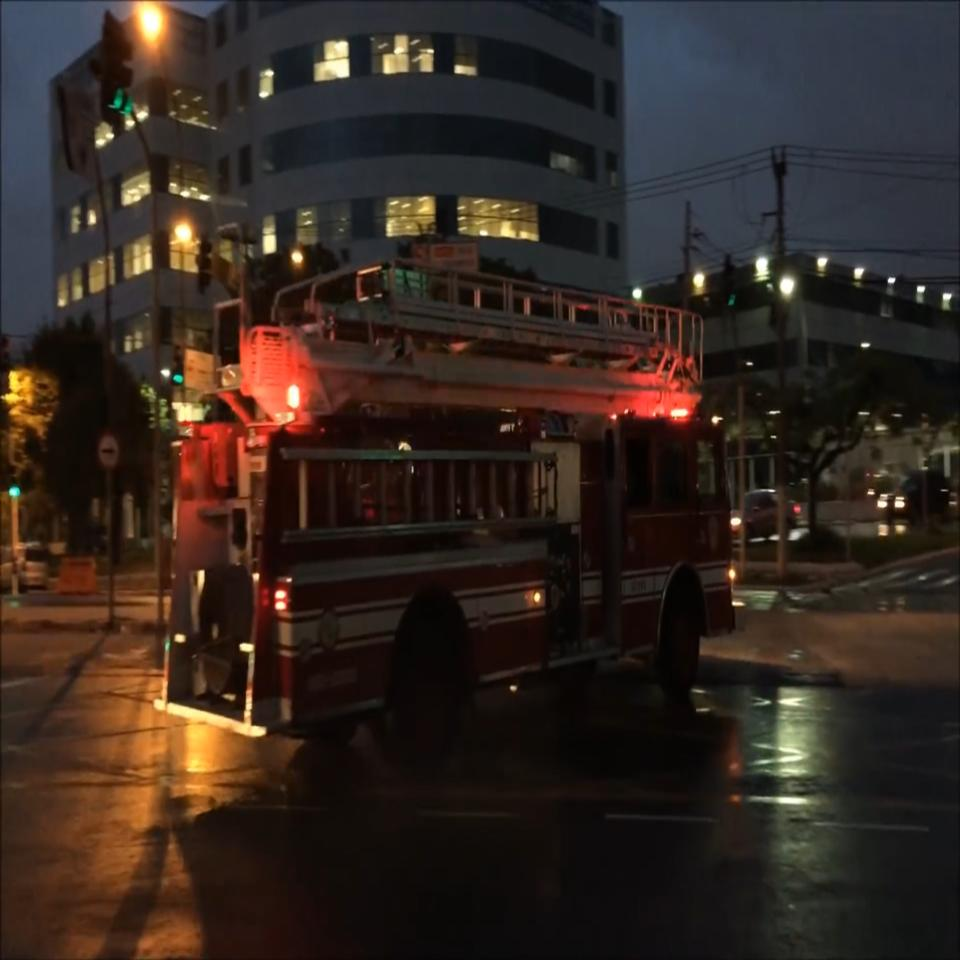viatura: (154, 254, 745, 777)
